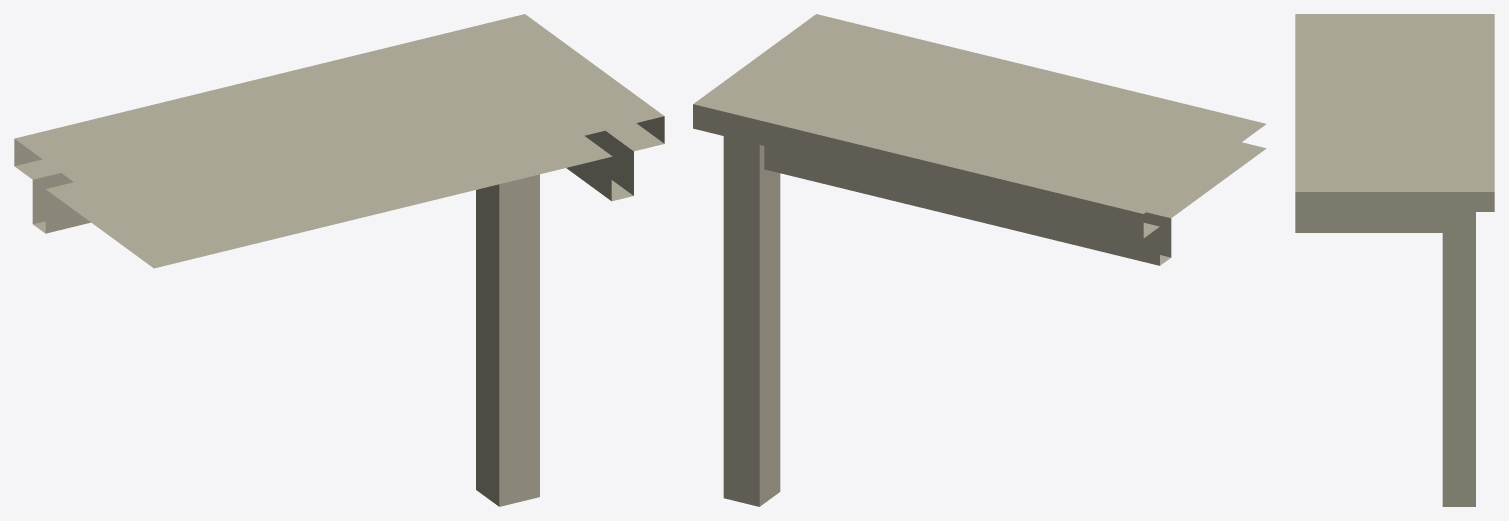
The model's file is table.glb.
The picture shows the model from 3 angles, left to right: view 1: azimuth 30°, elevation 25°; view 2: azimuth 150°, elevation 25°; view 3: azimuth 270°, elevation 25°; orthographic projection. The views are drawn at different scales.
Parts seen in each view (by area): view 1: Table; view 2: Table; view 3: Table.
Part boxes in pixels (x1,y1,x2,y2): Table: [14, 14, 664, 506]; Table: [693, 14, 1266, 506]; Table: [1295, 14, 1494, 506].
Size of the model in its own units: 1 by 0.844 by 0.4736.
